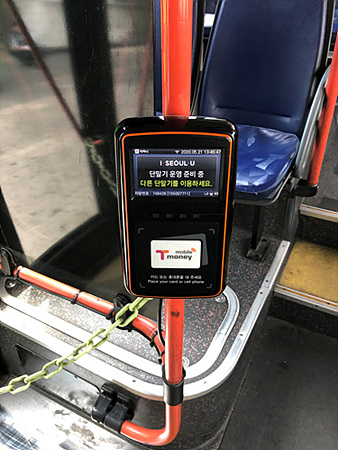terminal: (113, 116, 231, 294)
